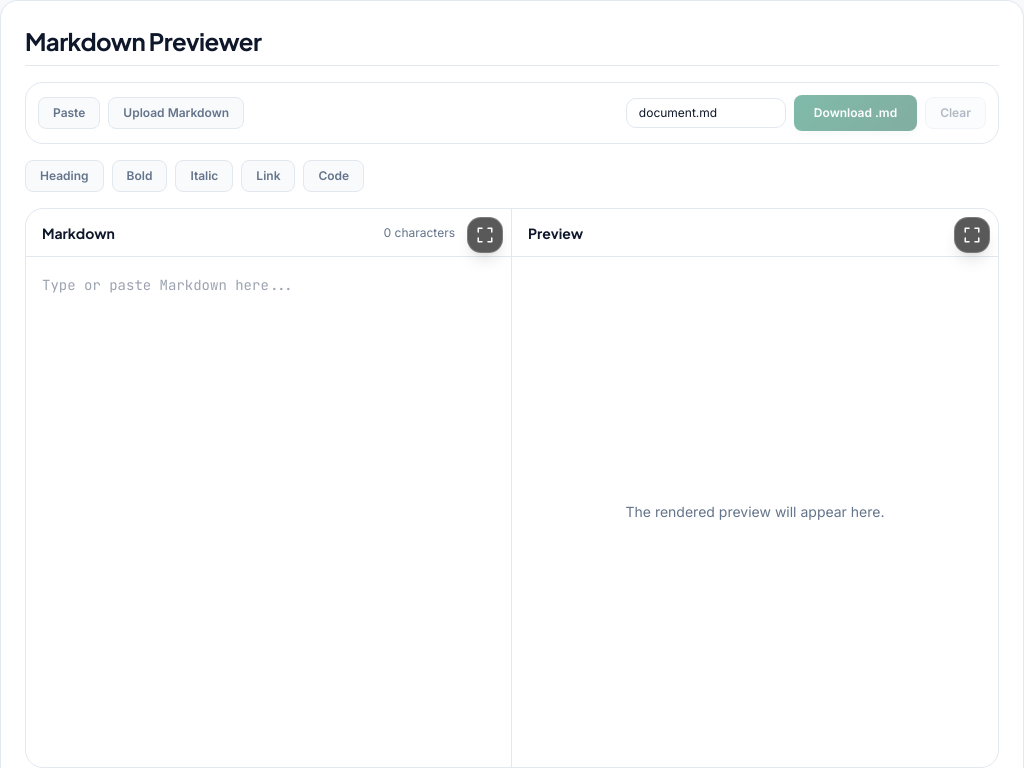
Test case: Markdown Previewer › pastes Markdown and renders a live preview
Click the button "Paste": x=69, y=113 x1=38 y1=97 x2=100 y2=129
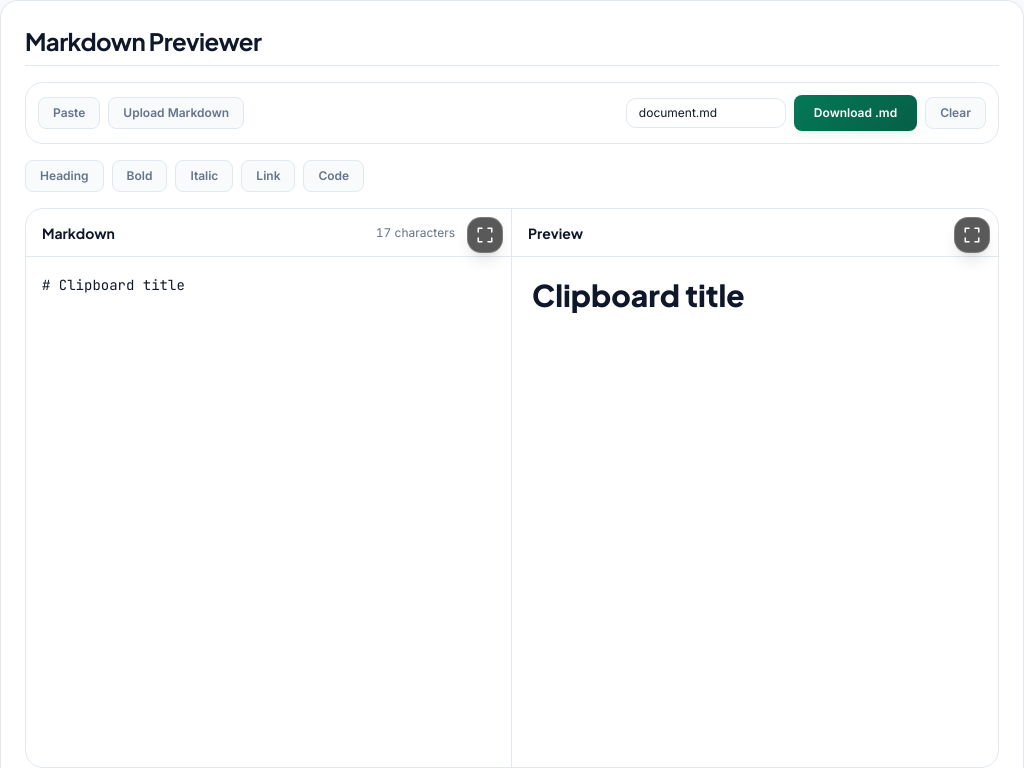
Expected: the text box named "Markdown editor" holds "# Clipboard title", x1=26 y1=257 x2=511 y2=767
Expected: the heading "Clipboard title" is shown, x1=532 y1=276 x2=744 y2=314
